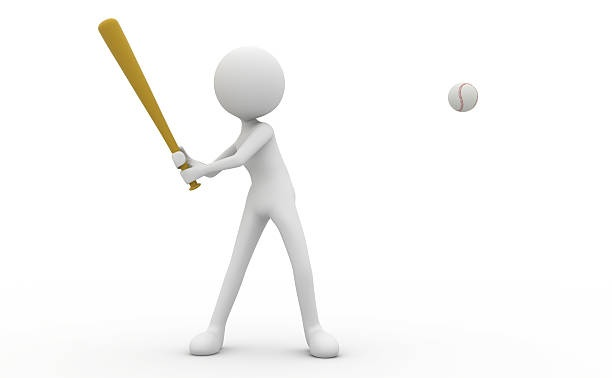bita: (95, 13, 196, 190)
